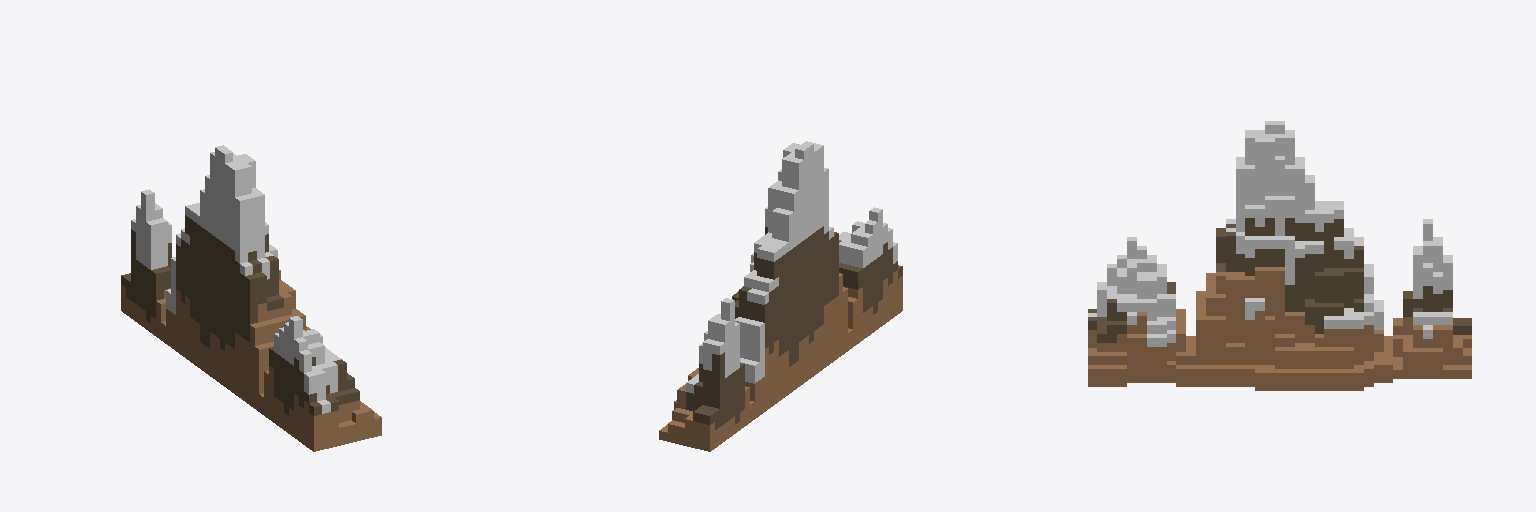
The picture shows the model from 3 angles: view 1: azimuth 30°, elevation 25°; view 2: azimuth 150°, elevation 25°; view 3: azimuth 270°, elevation 25°; orthographic projection.
Size of the model in its own units: 9 by 26 by 39.
1 materials, 1 textured.